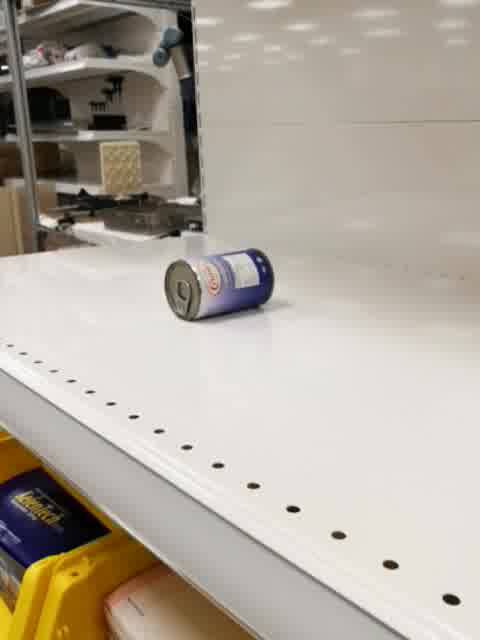sardine: (163, 248, 276, 323)
